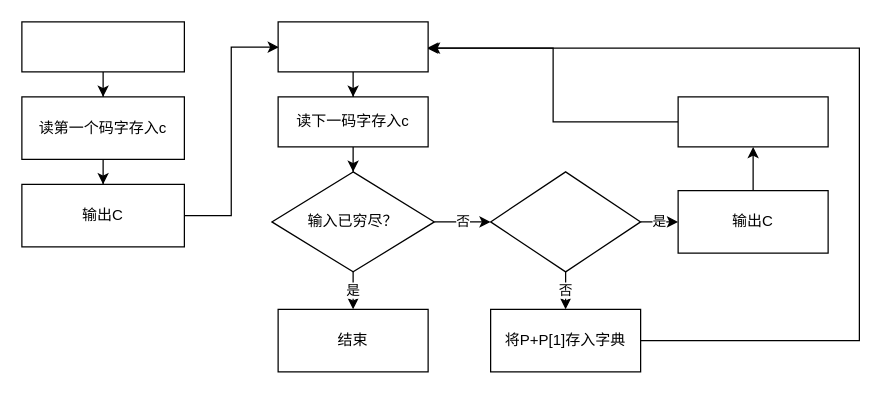
Image size: 891x394. Some labels were removed from this diagram. Each missing label, with the centre of its shape:
"C是否在字典中" goes at pixel 565 221.
"p=c" goes at pixel 352 46.
"字典初始化" goes at pixel 102 46.
"将P+C[1]存入字典" goes at pixel 752 121.
